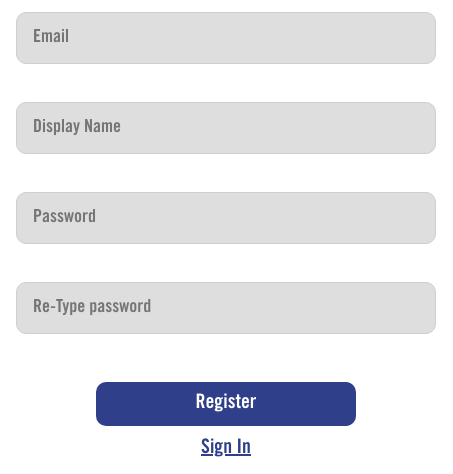
shows error when password is empty
The width and height of the screenshot is (453, 474).
In the field with placeholder "Email": (226, 38) [16,12,436,64], type "test@test.com"
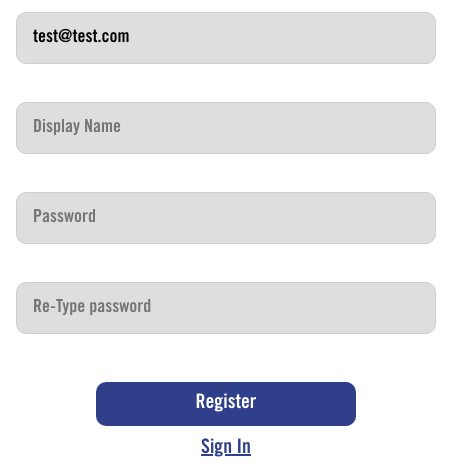
In the field with placeholder "Display Name": (226, 128) [16,102,436,154], type "John"
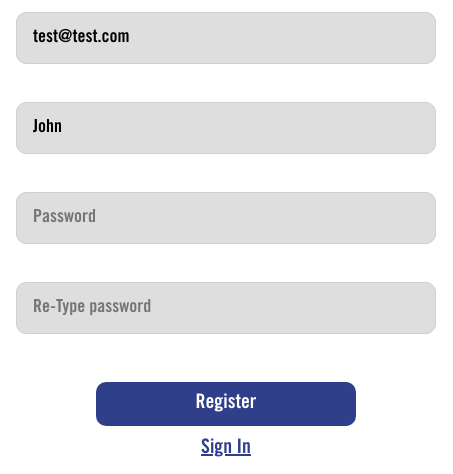
Click the button "Register": click(226, 404) [96,382,356,426]
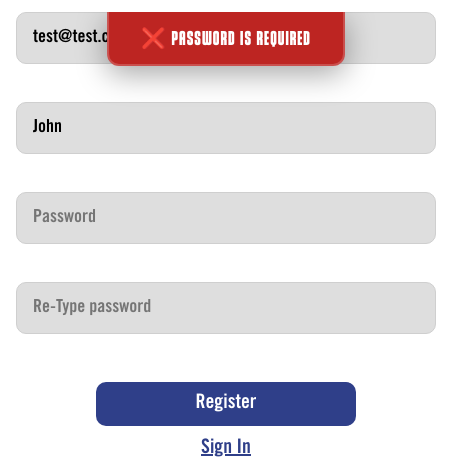
Result: the text "❌ Password is required" is shown at [107,12,345,66]
